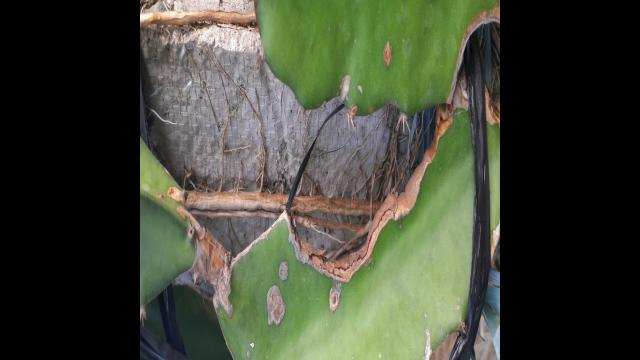stemcanker: (264, 283, 289, 328), (326, 283, 347, 315), (380, 39, 395, 68), (277, 259, 293, 281)
